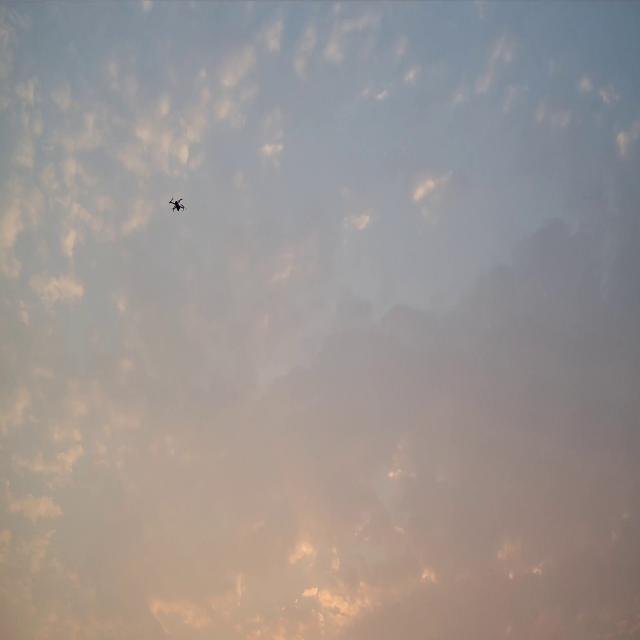UAV: (168, 196, 187, 212)
